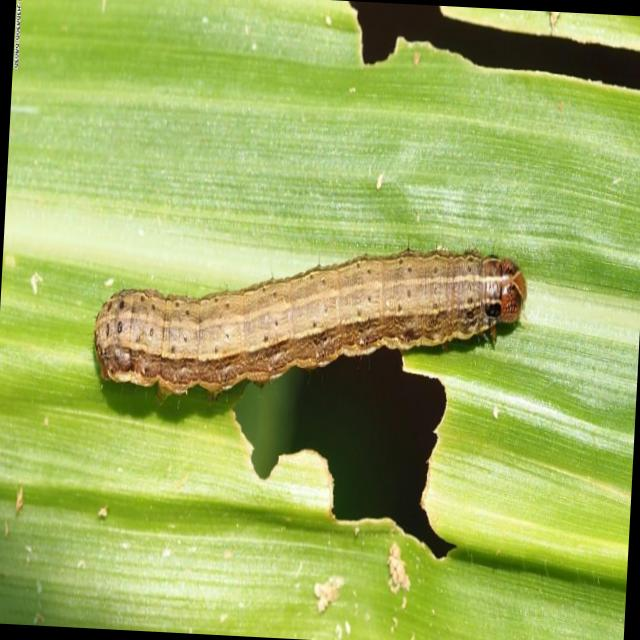armyworm: (78, 202, 538, 444)
